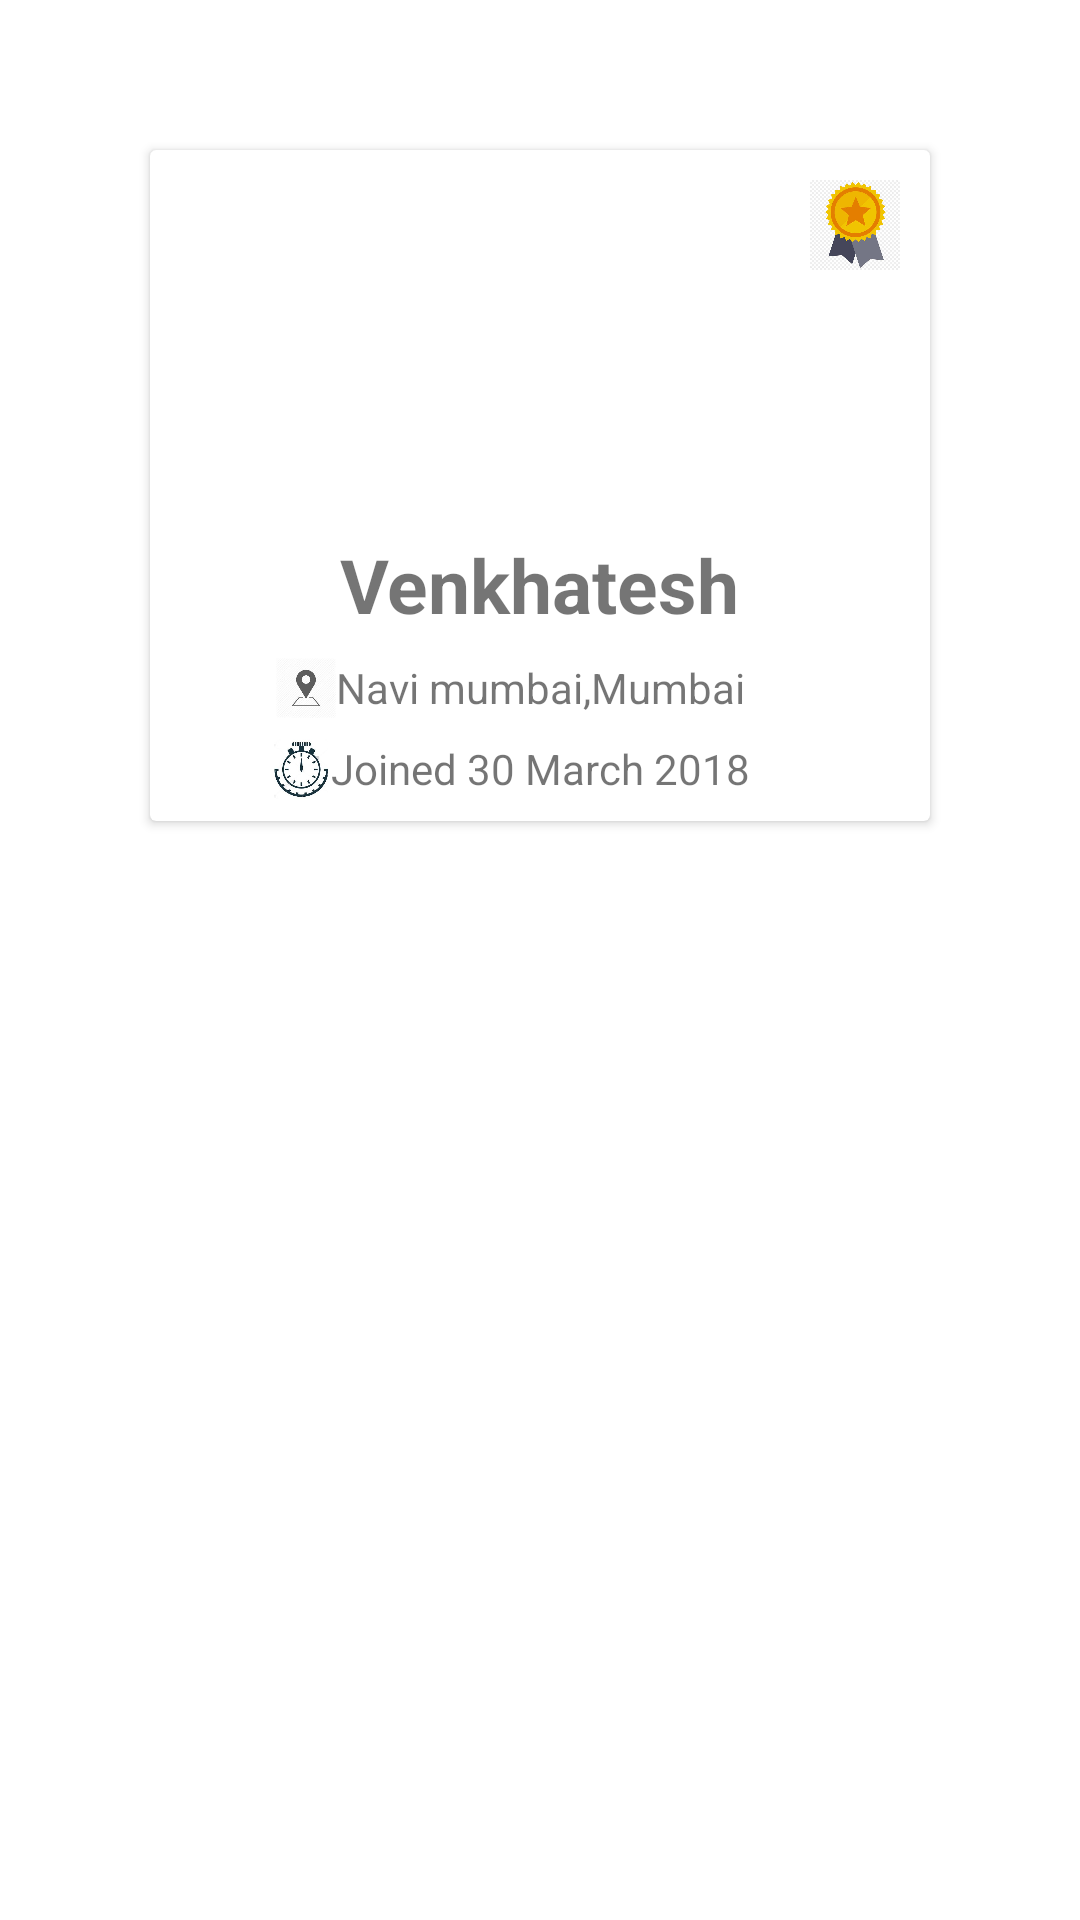

Where to tap for icons on this 1080px x 1920px app screen, as (x=x, y=y):
badge: (x=855, y=225)
location: (x=306, y=688)
time: (x=301, y=769)
